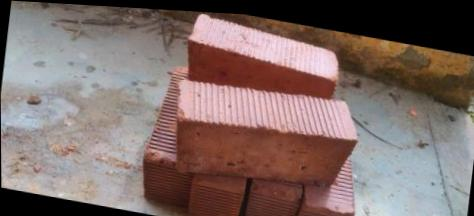brick: (175, 105, 357, 201), (185, 39, 338, 104), (142, 159, 192, 209), (187, 183, 243, 216), (243, 191, 299, 216), (290, 203, 355, 216)
